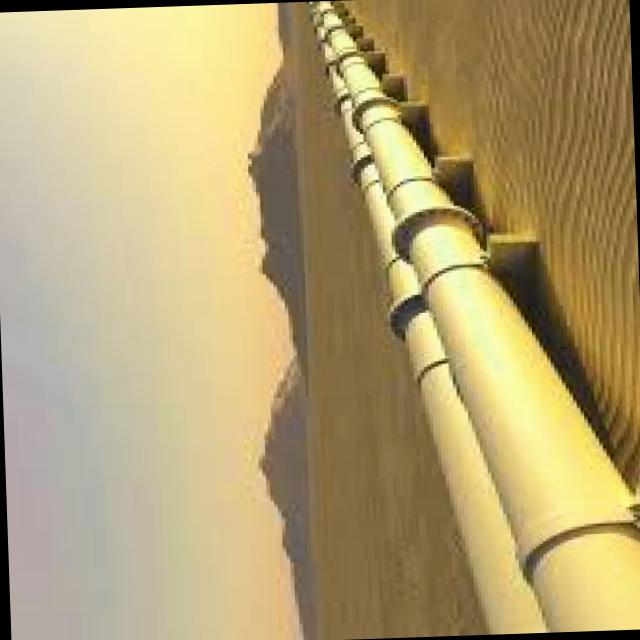gas: (312, 0, 640, 632), (420, 361, 549, 632), (359, 163, 398, 264), (404, 310, 447, 381), (389, 257, 425, 338), (392, 261, 423, 335)
